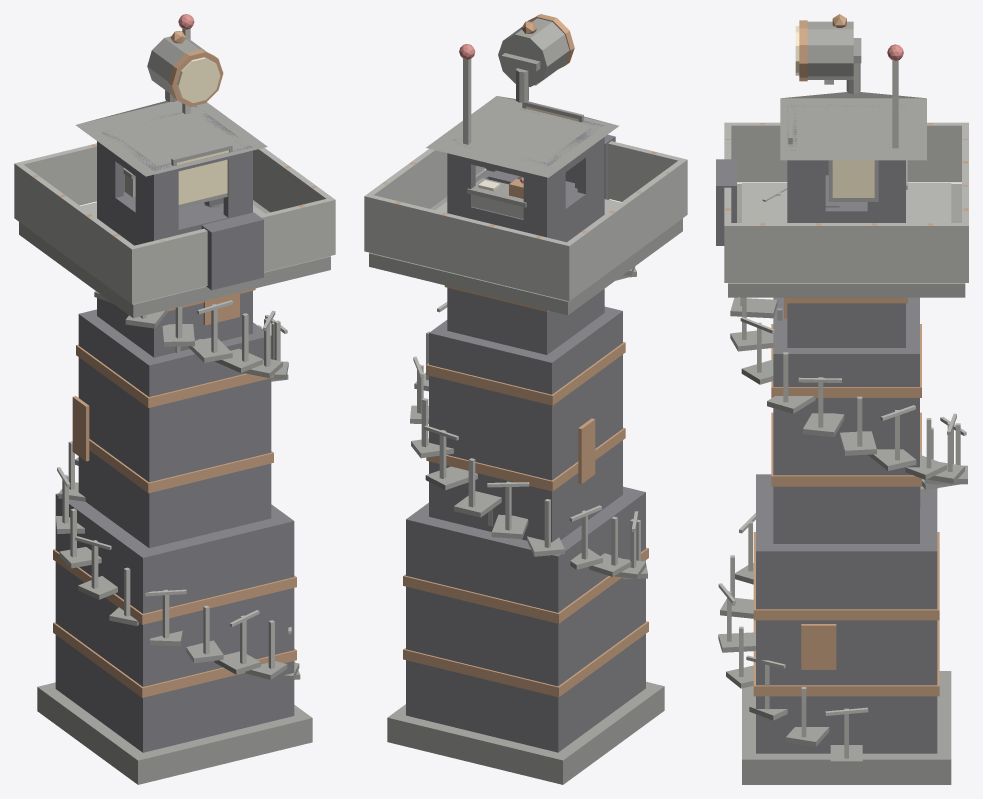
The model's file is strazni_vez.glb.
3 renders of one model, left to right at view 1: azimuth 30°, elevation 25°; view 2: azimuth 150°, elevation 25°; view 3: azimuth 270°, elevation 25°, orthographic. The views are drawn at different scales.
Parts seen in each view (by area): view 1: StrazniVez_dark, StrazniVez_grey4, StrazniVez_grey3, StrazniVez_rust, StrazniVez_candle; view 2: StrazniVez_dark, StrazniVez_grey4, StrazniVez_grey3, StrazniVez_rust; view 3: StrazniVez_dark, StrazniVez_grey4, StrazniVez_grey3, StrazniVez_rust, StrazniVez_candle.
Boxes of the visible parts, box(x1,y1,x2,y2) form: StrazniVez_dark: box(55, 105, 294, 752); StrazniVez_grey4: box(19, 36, 330, 784); StrazniVez_grey3: box(14, 29, 335, 668); StrazniVez_rust: box(32, 31, 317, 697); StrazniVez_candle: box(177, 57, 228, 204); StrazniVez_dark: box(406, 108, 645, 752); StrazniVez_grey4: box(369, 18, 682, 784); StrazniVez_grey3: box(364, 59, 687, 567); StrazniVez_rust: box(382, 14, 669, 697); StrazniVez_dark: box(716, 104, 937, 753); StrazniVez_grey4: box(718, 21, 967, 784); StrazniVez_grey3: box(718, 60, 968, 758); StrazniVez_rust: box(725, 14, 968, 696); StrazniVez_candle: box(795, 26, 874, 197).
Bounding box in the file's own units: 3.65 × 11.45 × 3.62.
